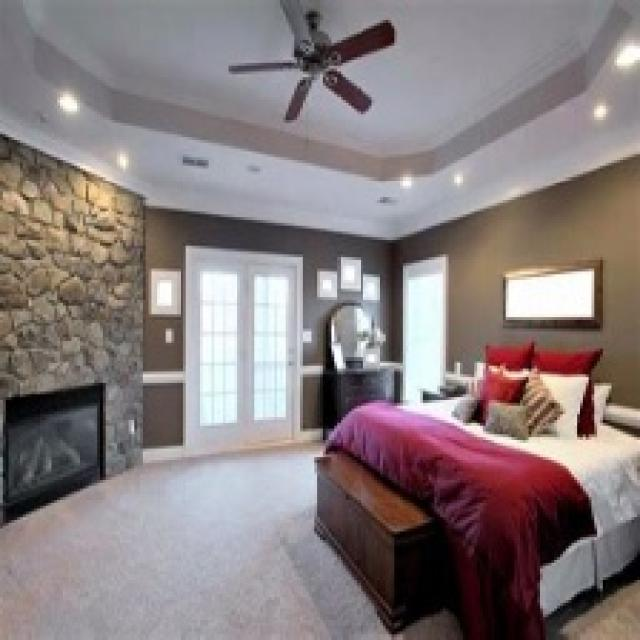Bed: (312, 386, 637, 637)
